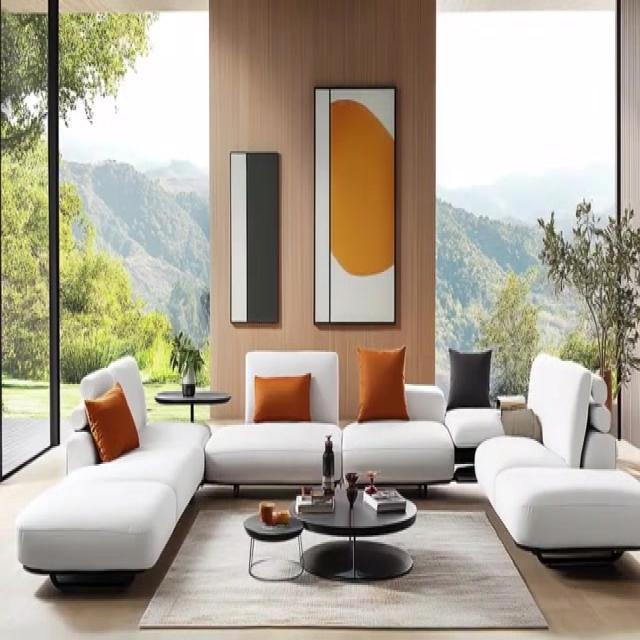door: (0, 0, 59, 480)
obstacle: (16, 354, 210, 592), (473, 350, 639, 569), (202, 348, 342, 496), (242, 482, 419, 583), (154, 389, 231, 422)
